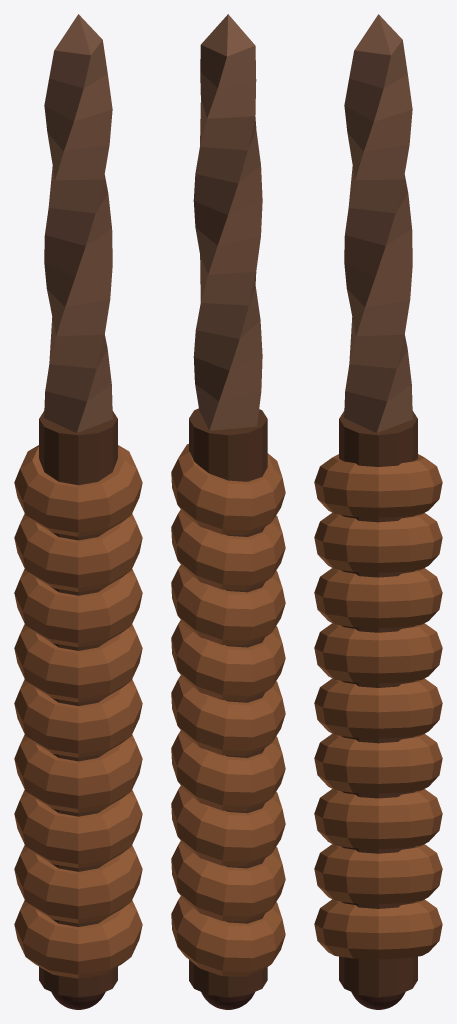
Rendered from Wand 453.glb.
The picture shows the model from 3 angles, left to right: view 1: azimuth 90°, elevation 25°; view 2: azimuth 150°, elevation 25°; view 3: azimuth 270°, elevation 25°; orthographic projection.
Visible parts, largest first — view 1: GeneratedWand; view 2: GeneratedWand; view 3: GeneratedWand.
Part boxes in pixels (x1=…): GeneratedWand: x1=14, y1=14, x2=142, y2=1009; GeneratedWand: x1=171, y1=14, x2=285, y2=1009; GeneratedWand: x1=314, y1=14, x2=442, y2=1009.
Bounding box in the file's own units: 0.0497 × 0.4962 × 0.0581.
